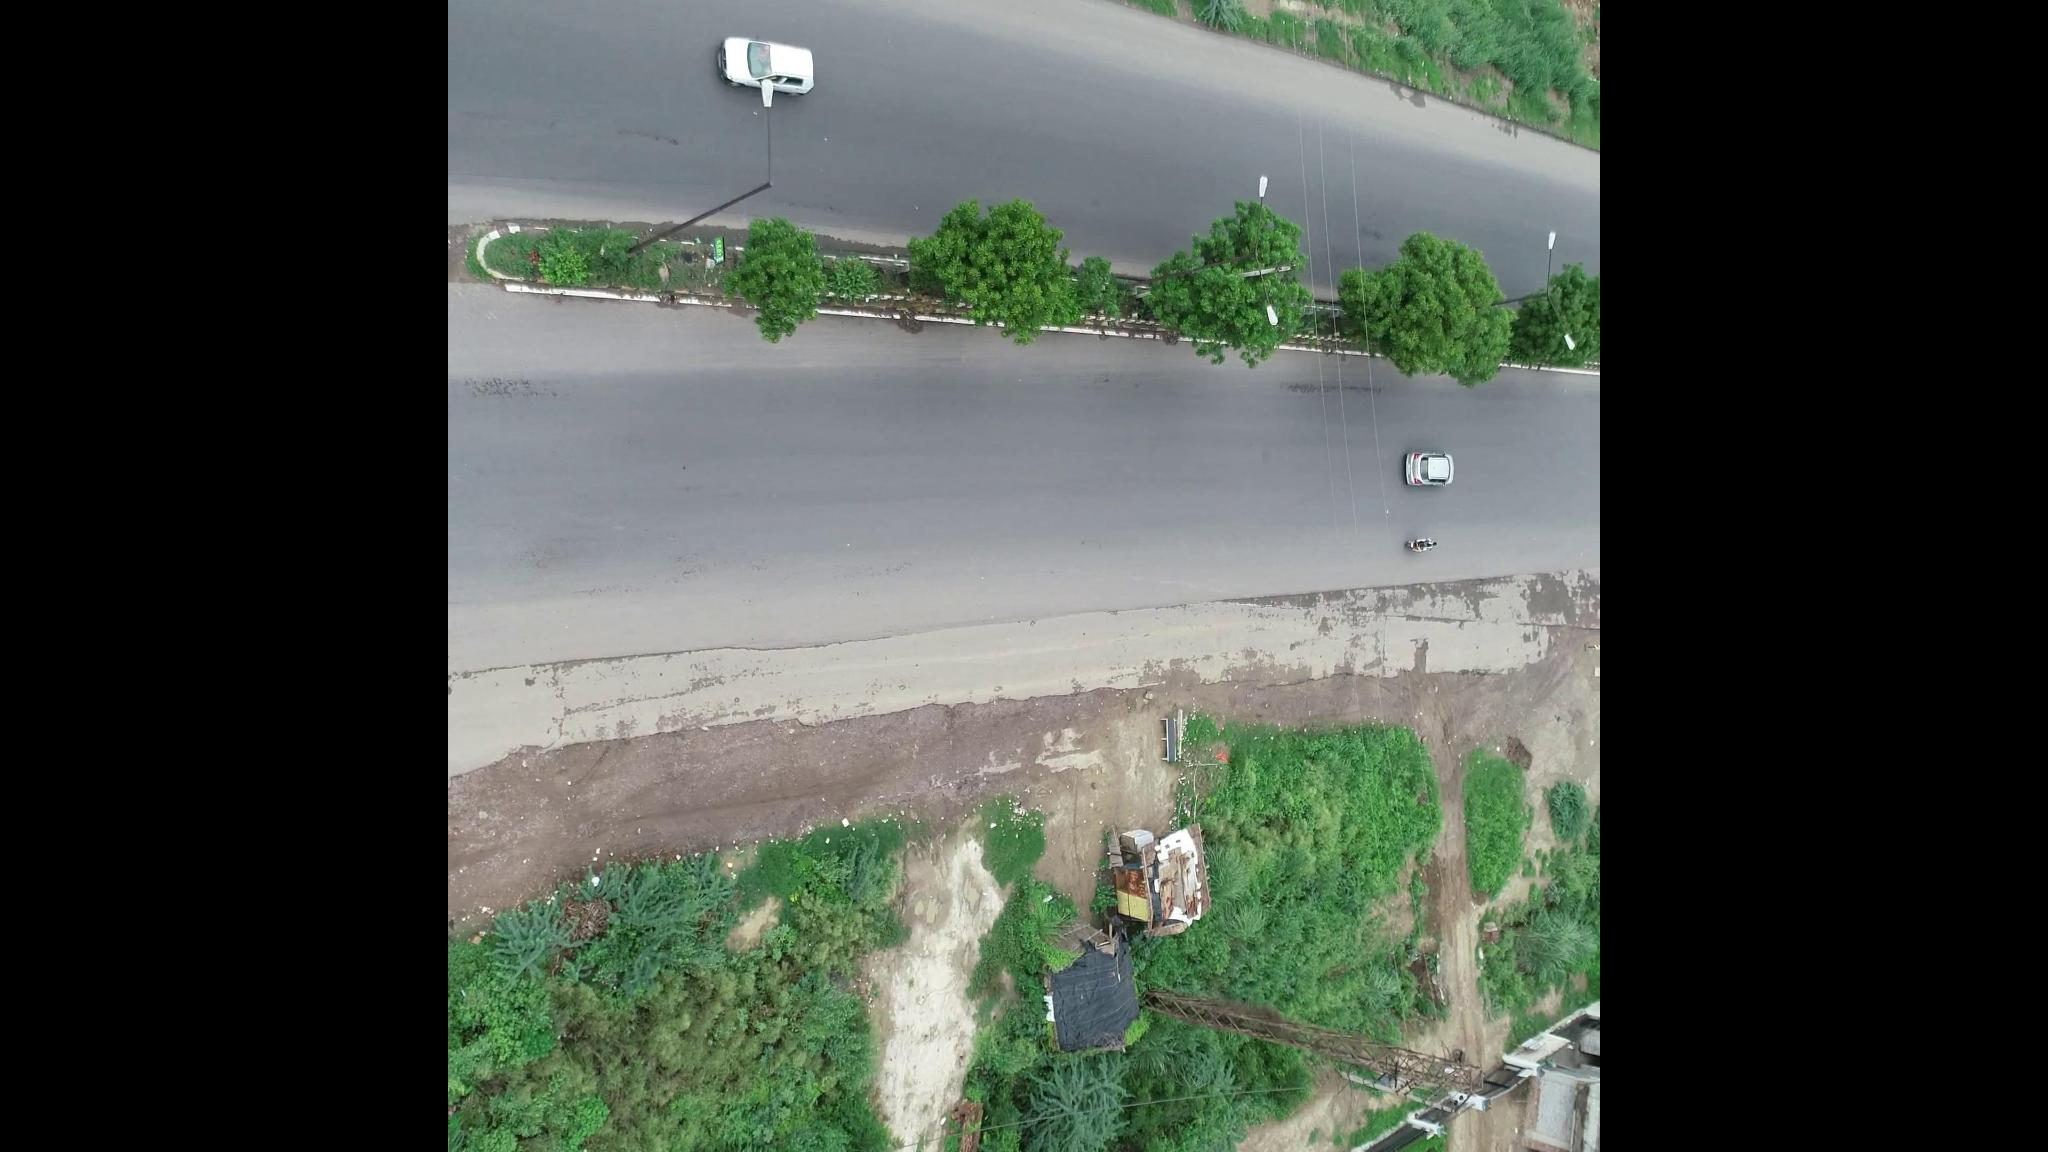Ravelling: (1288, 377, 1402, 399)
